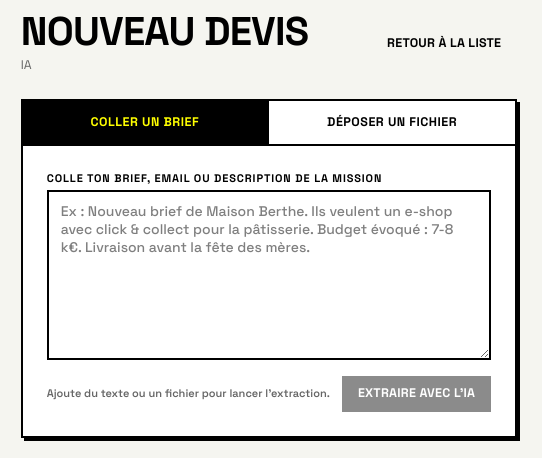
Test: NewAi route › bascule sur l'onglet fichier et affiche la dropzone
Click the tab with test id "ai-tab-file". click: (392, 122)
box: left=269, top=101, right=515, bottom=144
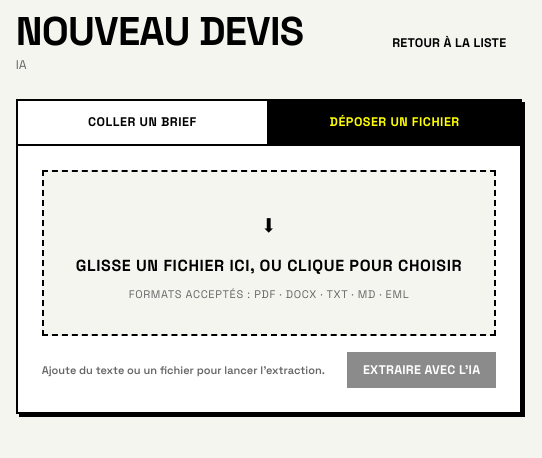
Check: the button with test id "ai-dropzone" is shown, box left=42, top=170, right=496, bottom=336
Check: the text box with test id "ai-brief" is gone
Check: the text "Formats acceptés : PDF · DOCX · TXT · MD · EML" is shown, box left=129, top=286, right=409, bottom=300
